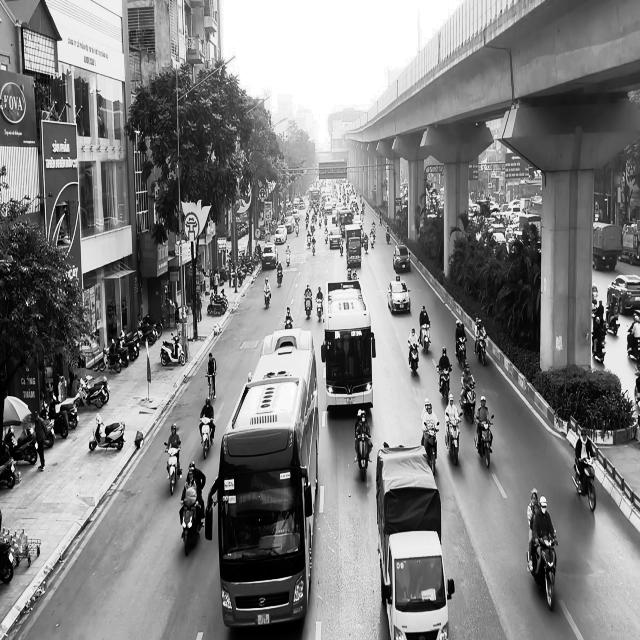bus: (213, 425, 315, 629), (321, 277, 376, 411)
car: (387, 277, 411, 314), (393, 244, 411, 273)
motorbike: (526, 533, 558, 611), (89, 412, 125, 452), (179, 498, 203, 556), (572, 456, 596, 511), (474, 415, 494, 468), (164, 441, 182, 495), (421, 422, 439, 476), (444, 411, 462, 465), (354, 433, 372, 482), (459, 384, 476, 424), (199, 416, 215, 458), (436, 363, 452, 402), (604, 306, 620, 335), (474, 334, 487, 365), (455, 336, 467, 368), (419, 324, 431, 353), (205, 371, 216, 401), (408, 342, 418, 374), (316, 297, 324, 321), (304, 294, 312, 318), (263, 286, 271, 308), (276, 262, 283, 287), (286, 250, 290, 266)
